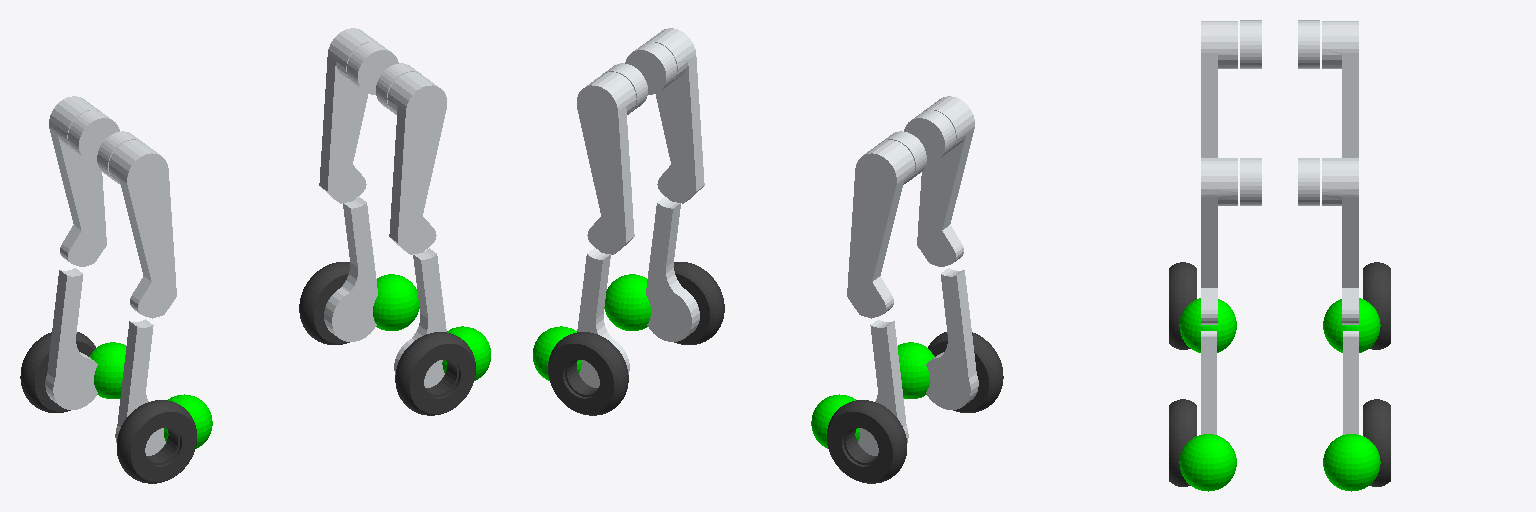
robot.urdf — srobot-wheel-legged:
<?xml version="1.0" encoding="utf-8"?>
<!-- This URDF was automatically created by SolidWorks to URDF Exporter! Originally created by [author] ([email redacted]) 
     Commit Version: 1.5.1-0-g916b5db  Build Version: 1.5.7152.31018
     For more information, please see http://wiki.ros.org/sw_urdf_exporter -->
<robot
  name="srobot-wheel-legged">
  <link
    name="base_link">
    <inertial>
      <origin
        xyz="-6.52486467968375E-17 2.07441986886647E-18 -2.27883154886891E-18"
        rpy="0 0 0" />
      <mass
        value="6.0" />
      <inertia
        ixx="0.0608160956861259"
        ixy="1.72051690543509E-18"
        ixz="-2.1700244668573E-18"
        iyy="0.402666318638718"
        iyz="-7.92852617132077E-18"
        izz="0.421299587298648" />
    </inertial>
    <visual>
      <origin
        xyz="0 0 0"
        rpy="0 0 0" />
      <geometry>
        <mesh
          filename="../meshes/base_link.STL" />
      </geometry>
      <material
        name="">
        <color
          rgba="0.898039215686275 0.917647058823529 0.929411764705882 1" />
      </material>
    </visual>
    <collision>
      <origin
        xyz="0 0 0"
        rpy="0 0 0" />
      <geometry>
        <mesh
          filename="../meshes/base_link.STL" />
      </geometry>
    </collision>
  </link>
  <link
    name="RF_Roll_Link">
    <inertial>
      <origin
        xyz="4.55191440096314E-15 0.00529999999999486 4.43982639023618E-14"
        rpy="0 0 0" />
      <mass
        value="0.6" />
      <inertia
        ixx="0.000319166019057731"
        ixy="1.77674783856661E-17"
        ixz="4.04080661782213E-34"
        iyy="0.000501492450372184"
        iyz="4.16618808159443E-21"
        izz="0.000319166019057731" />
    </inertial>
    <visual>
      <origin
        xyz="0 0 0"
        rpy="0 0 0" />
      <geometry>
        <mesh
          filename="../meshes/RF_Roll_Link.STL" />
      </geometry>
      <material
        name="">
        <color
          rgba="0.898039215686275 0.917647058823529 0.929411764705882 1" />
      </material>
    </visual>
    <!-- <collision>
      <origin
        xyz="0 0 0"
        rpy="0 0 0" />
      <geometry>
        <mesh
          filename="../meshes/RF_Roll_Link.STL" />
      </geometry>
    </collision> -->
  </link>
  <joint
    name="RF_Roll_Joint"
    type="revolute">
    <origin
      xyz="0.281 -0.056 0"
      rpy="0 0 0" />
    <parent
      link="base_link" />
    <child
      link="RF_Roll_Link" />
    <axis
      xyz="1 0 0" />
    <limit
      lower="-1.571"
      upper="1.571"
      effort="12"
      velocity="30" />
  </joint>
  <link
    name="RF_Hip_Link">
    <inertial>
      <origin
        xyz="-0.0103360295217408 -0.0581630276834992 -0.0820443873446011"
        rpy="0 0 0" />
      <mass
        value="1.6" />
      <inertia
        ixx="0.0189592876226688"
        ixy="-0.00017955527915913"
        ixz="-0.0018550747749619"
        iyy="0.0194844565916898"
        iyz="-0.00142525743005481"
        izz="0.00169890996470072" />
    </inertial>
    <visual>
      <origin
        xyz="0 0 0"
        rpy="0 0 0" />
      <geometry>
        <mesh
          filename="../meshes/RF_Hip_Link.STL" />
      </geometry>
      <material
        name="">
        <color
          rgba="0.898039215686275 0.917647058823529 0.929411764705882 1" />
      </material>
    </visual>
    <!-- <collision>
      <origin
        xyz="0 0 0"
        rpy="0 0 0" />
      <geometry>
        <mesh
          filename="../meshes/RF_Hip_Link.STL" />
      </geometry>
    </collision> -->
  </link>
  <joint
    name="RF_Hip_Joint"
    type="revolute">
    <origin
      xyz="0 0 0"
      rpy="0 0 0" />
    <parent
      link="RF_Roll_Link" />
    <child
      link="RF_Hip_Link" />
    <axis
      xyz="0 1 0" />
    <limit
      lower="-1.571"
      upper="1.571"
      effort="12"
      velocity="30" />
  </joint>
  <link
    name="RF_Knee_Link">
    <inertial>
      <origin
        xyz="0.00671675073687822 0.00200000000000003 -0.197321486304277"
        rpy="0 0 0" />
      <mass
        value="1.5" />
      <inertia
        ixx="0.00525919308166458"
        ixy="3.19446872965897E-20"
        ixz="-0.000352615147265016"
        iyy="0.00567312915510127"
        iyz="1.35084431456094E-18"
        izz="0.000548366854782577" />
    </inertial>
    <visual>
      <origin
        xyz="0 0 0"
        rpy="0 0 0" />
      <geometry>
        <mesh
          filename="../meshes/RF_Knee_Link.STL" />
      </geometry>
      <material
        name="">
        <color
          rgba="0.898039215686275 0.917647058823529 0.929411764705882 1" />
      </material>
    </visual>
    <collision>
      <origin
        xyz="0 0 0"
        rpy="0 0 0" />
      <geometry>
        <mesh
          filename="../meshes/RF_Knee_Link.STL" />
      </geometry>
    </collision>
  </link>
  <joint
    name="RF_Knee_Joint"
    type="revolute">
    <origin
      xyz="0 -0.0685 -0.25"
      rpy="0 0 0" />
    <parent
      link="RF_Hip_Link" />
    <child
      link="RF_Knee_Link" />
    <axis
      xyz="0 1 0" />
    <limit
      lower="-3.2"
      upper="0.1"
      effort="24"
      velocity="15" />
  </joint>
  <link
    name="RF_Wheel_Link">
    <inertial>
      <origin
        xyz="-2.98649993624167E-14 -0.0432999999997456 -7.74935671188359E-14"
        rpy="0 0 0" />
      <mass
        value="0.6" />
      <inertia
        ixx="0.0011369420458667"
        ixy="8.99815704764138E-17"
        ixz="1.23379172075192E-19"
        iyy="0.00206122837663487"
        iyz="4.94480481928688E-16"
        izz="0.0011369420458667" />
    </inertial>
    <visual>
      <geometry>
        <sphere radius="0.05" />
      </geometry>
      <origin xyz="0.08 0.0 0.0" rpy="0 0 0" />
      <material name="green">
        <color rgba="0 1 0 1" />
      </material>
    </visual>
    <visual>
      <origin
        xyz="0 0 0"
        rpy="0 0 0" />
      <geometry>
        <mesh
          filename="../meshes/RF_Wheel_Link.STL" />
      </geometry>
      <material
        name="">
        <color
          rgba="0.298039215686275 0.298039215686275 0.298039215686275 1" />
      </material>
    </visual>
    <collision>
      <origin
        xyz="0 0 0"
        rpy="0 0 0" />
      <geometry>
        <mesh
          filename="../meshes/RF_Wheel_Link.STL" />
      </geometry>
    </collision>
  </link>
  <joint
    name="RF_Wheel_Joint"
    type="revolute">
    <origin
      xyz="0 0 -0.25"
      rpy="0 0 0" />
    <parent
      link="RF_Knee_Link" />
    <child
      link="RF_Wheel_Link" />
    <axis
      xyz="0 1 0" />
    <limit
      lower="-300000"
      upper="300000"
      effort="2.5"
      velocity="100" />
  </joint>
  <link
    name="LF_Roll_Link">
    <inertial>
      <origin
        xyz="4.05231403988182E-15 -0.00529999999999486 -1.52811036746233E-14"
        rpy="0 0 0" />
      <mass
        value="0.6" />
      <inertia
        ixx="0.000319166019057731"
        ixy="-3.67718522367365E-22"
        ixz="0"
        iyy="0.000501492450372184"
        iyz="-4.16618808160681E-21"
        izz="0.000319166019057731" />
    </inertial>
    <visual>
      <origin
        xyz="0 0 0"
        rpy="0 0 0" />
      <geometry>
        <mesh
          filename="../meshes/LF_Roll_Link.STL" />
      </geometry>
      <material
        name="">
        <color
          rgba="0.898039215686275 0.917647058823529 0.929411764705882 1" />
      </material>
    </visual>
    <!-- <collision>
      <origin
        xyz="0 0 0"
        rpy="0 0 0" />
      <geometry>
        <mesh
          filename="../meshes/LF_Roll_Link.STL" />
      </geometry>
    </collision> -->
  </link>
  <joint
    name="LF_Roll_Joint"
    type="revolute">
    <origin
      xyz="0.281 0.056 0"
      rpy="0 0 0" />
    <parent
      link="base_link" />
    <child
      link="LF_Roll_Link" />
    <axis
      xyz="1 0 0" />
    <limit
      lower="-1.571"
      upper="1.571"
      effort="12"
      velocity="30" />
  </joint>
  <link
    name="LF_Hip_Link">
    <inertial>
      <origin
        xyz="-0.0103360295217104 0.0581630276835001 -0.0820443873446639"
        rpy="0 0 0" />
      <mass
        value="1.6" />
      <inertia
        ixx="0.0189592876226699"
        ixy="0.000179555279158753"
        ixz="-0.00185507477495655"
        iyy="0.0194844565916898"
        iyz="0.00142525743005504"
        izz="0.00169890996469961" />
    </inertial>
    <visual>
      <origin
        xyz="0 0 0"
        rpy="0 0 0" />
      <geometry>
        <mesh
          filename="../meshes/LF_Hip_Link.STL" />
      </geometry>
      <material
        name="">
        <color
          rgba="0.898039215686275 0.917647058823529 0.929411764705882 1" />
      </material>
    </visual>
    <!-- <collision>
      <origin
        xyz="0 0 0"
        rpy="0 0 0" />
      <geometry>
        <mesh
          filename="../meshes/LF_Hip_Link.STL" />
      </geometry>
    </collision> -->
  </link>
  <joint
    name="LF_Hip_Joint"
    type="revolute">
    <origin
      xyz="0 0 0"
      rpy="0 0 0" />
    <parent
      link="LF_Roll_Link" />
    <child
      link="LF_Hip_Link" />
    <axis
      xyz="0 1 0" />
    <limit
      lower="-1.571"
      upper="1.571"
      effort="12"
      velocity="30" />
  </joint>
  <link
    name="LF_Knee_Link">
    <inertial>
      <origin
        xyz="0.0067167507369022 -0.00199999999999653 -0.197321486304277"
        rpy="0 0 0" />
      <mass
        value="1.5" />
      <inertia
        ixx="0.00525919308166458"
        ixy="-6.91806458325334E-19"
        ixz="-0.000352615147265016"
        iyy="0.00567312915510127"
        iyz="-3.52509874642108E-18"
        izz="0.000548366854782577" />
    </inertial>
    <visual>
      <origin
        xyz="0 0 0"
        rpy="0 0 0" />
      <geometry>
        <mesh
          filename="../meshes/LF_Knee_Link.STL" />
      </geometry>
      <material
        name="">
        <color
          rgba="0.898039215686275 0.917647058823529 0.929411764705882 1" />
      </material>
    </visual>
    <collision>
      <origin
        xyz="0 0 0"
        rpy="0 0 0" />
      <geometry>
        <mesh
          filename="../meshes/LF_Knee_Link.STL" />
      </geometry>
    </collision>
  </link>
  <joint
    name="LF_Knee_Joint"
    type="revolute">
    <origin
      xyz="0 0.0685 -0.25"
      rpy="0 0 0" />
    <parent
      link="LF_Hip_Link" />
    <child
      link="LF_Knee_Link" />
    <axis
      xyz="0 1 0" />
    <limit
      lower="-3.2"
      upper="0.1"
      effort="24"
      velocity="15" />
  </joint>
  <link
    name="LF_Wheel_Link">
    <inertial>
      <origin
        xyz="-1.60982338570648E-15 0.0432999999997492 -7.74935671188359E-14"
        rpy="0 0 0" />
      <mass
        value="0.6" />
      <inertia
        ixx="0.0011369420458667"
        ixy="-6.08042992232673E-20"
        ixz="2.84441428156161E-19"
        iyy="0.00206122837663487"
        iyz="-4.94235268530396E-16"
        izz="0.0011369420458667" />
    </inertial>
    <visual>
      <geometry>
        <sphere radius="0.05" />
      </geometry>
      <origin xyz="0.08 0.0 0.0" rpy="0 0 0" />
      <material name="green">
        <color rgba="0 1 0 1" />
      </material>
    </visual>
    <visual>
      <origin
        xyz="0 0 0"
        rpy="0 0 0" />
      <geometry>
        <mesh
          filename="../meshes/LF_Wheel_Link.STL" />
      </geometry>
      <material
        name="">
        <color
          rgba="0.298039215686275 0.298039215686275 0.298039215686275 1" />
      </material>
    </visual>
    <collision>
      <origin
        xyz="0 0 0"
        rpy="0 0 0" />
      <geometry>
        <mesh
          filename="../meshes/LF_Wheel_Link.STL" />
      </geometry>
    </collision>
  </link>
  <joint
    name="LF_Wheel_Joint"
    type="revolute">
    <origin
      xyz="0 0 -0.25"
      rpy="0 0 0" />
    <parent
      link="LF_Knee_Link" />
    <child
      link="LF_Wheel_Link" />
    <axis
      xyz="0 1 0" />
    <limit
      lower="-300000"
      upper="300000"
      effort="2.5"
      velocity="100" />
  </joint>
  <link
    name="RB_Roll_Link">
    <inertial>
      <origin
        xyz="2.72004641033163E-15 0.00529999999999486 4.44649776840179E-14"
        rpy="0 0 0" />
      <mass
        value="0.6" />
      <inertia
        ixx="0.000319166019057731"
        ixy="-3.67718551651994E-22"
        ixz="-1.91143375438228E-36"
        iyy="0.000501492450372184"
        iyz="-4.9329303402386E-21"
        izz="0.000319166019057731" />
    </inertial>
    <visual>
      <origin
        xyz="0 0 0"
        rpy="0 0 0" />
      <geometry>
        <mesh
          filename="../meshes/RB_Roll_Link.STL" />
      </geometry>
      <material
        name="">
        <color
          rgba="0.898039215686275 0.917647058823529 0.929411764705882 1" />
      </material>
    </visual>
    <!-- <collision>
      <origin
        xyz="0 0 0"
        rpy="0 0 0" />
      <geometry>
        <mesh
          filename="../meshes/RB_Roll_Link.STL" />
      </geometry>
    </collision> -->
  </link>
  <joint
    name="RB_Roll_Joint"
    type="revolute">
    <origin
      xyz="-0.281 -0.056 0"
      rpy="0 0 0" />
    <parent
      link="base_link" />
    <child
      link="RB_Roll_Link" />
    <axis
      xyz="1 0 0" />
    <limit
      lower="-1.571"
      upper="1.571"
      effort="12"
      velocity="30" />
  </joint>
  <link
    name="RB_Hip_Link">
    <inertial>
      <origin
        xyz="0.0103360295217419 -0.0581630276835001 -0.0820443873446011"
        rpy="0 0 0" />
      <mass
        value="1.6" />
      <inertia
        ixx="0.0189592876226688"
        ixy="0.000179555279159183"
        ixz="0.00185507477496176"
        iyy="0.0194844565916898"
        iyz="-0.00142525743005499"
        izz="0.00169890996470072" />
    </inertial>
    <visual>
      <origin
        xyz="0 0 0"
        rpy="0 0 0" />
      <geometry>
        <mesh
          filename="../meshes/RB_Hip_Link.STL" />
      </geometry>
      <material
        name="">
        <color
          rgba="0.898039215686275 0.917647058823529 0.929411764705882 1" />
      </material>
    </visual>
    <!-- <collision>
      <origin
        xyz="0 0 0"
        rpy="0 0 0" />
      <geometry>
        <mesh
          filename="../meshes/RB_Hip_Link.STL" />
      </geometry>
    </collision> -->
  </link>
  <joint
    name="RB_Hip_Joint"
    type="revolute">
    <origin
      xyz="0 0 0"
      rpy="0 0 0" />
    <parent
      link="RB_Roll_Link" />
    <child
      link="RB_Hip_Link" />
    <axis
      xyz="0 1 0" />
    <limit
      lower="-1.571"
      upper="1.571"
      effort="12"
      velocity="30" />
  </joint>
  <link
    name="RB_Knee_Link">
    <inertial>
      <origin
        xyz="-0.00671675073694039 0.00200000000005476 -0.197321486304257"
        rpy="0 0 0" />
      <mass
        value="1.5" />
      <inertia
        ixx="0.00525919308166458"
        ixy="3.98626841051051E-17"
        ixz="0.000352615147265016"
        iyy="0.00567312915510127"
        iyz="-3.39649635345383E-17"
        izz="0.000548366854782577" />
    </inertial>
    <visual>
      <origin
        xyz="0 0 0"
        rpy="0 0 0" />
      <geometry>
        <mesh
          filename="../meshes/RB_Knee_Link.STL" />
      </geometry>
      <material
        name="">
        <color
          rgba="0.898039215686275 0.917647058823529 0.929411764705882 1" />
      </material>
    </visual>
    <collision>
      <origin
        xyz="0 0 0"
        rpy="0 0 0" />
      <geometry>
        <mesh
          filename="../meshes/RB_Knee_Link.STL" />
      </geometry>
    </collision>
  </link>
  <joint
    name="RB_Knee_Joint"
    type="revolute">
    <origin
      xyz="0 -0.0685 -0.25"
      rpy="0 0 0" />
    <parent
      link="RB_Hip_Link" />
    <child
      link="RB_Knee_Link" />
    <axis
      xyz="0 1 0" />
    <limit
      lower="-0.1"
      upper="3.2"
      effort="24"
      velocity="15" />
  </joint>
  <link
    name="RB_Wheel_Link">
    <inertial>
      <origin
        xyz="-1.06581410364015E-14 -0.0432999999996914 -6.0285110237146E-14"
        rpy="0 0 0" />
      <mass
        value="0.6" />
      <inertia
        ixx="0.0011369420458667"
        ixy="-8.99932544661742E-17"
        ixz="-5.3098730859172E-20"
        iyy="0.00206122837663487"
        iyz="4.94356170490272E-16"
        izz="0.0011369420458667" />
    </inertial>
    <visual>
      <geometry>
        <sphere radius="0.05" />
      </geometry>
      <origin xyz="0.08 0.0 0.0" rpy="0 0 0" />
      <material name="green">
        <color rgba="0 1 0 1" />
      </material>
    </visual>
    <visual>
      <origin
        xyz="0 0 0"
        rpy="0 0 0" />
      <geometry>
        <mesh
          filename="../meshes/RB_Wheel_Link.STL" />
      </geometry>
      <material
        name="">
        <color
          rgba="0.298039215686275 0.298039215686275 0.298039215686275 1" />
      </material>
    </visual>
    <collision>
      <origin
        xyz="0 0 0"
        rpy="0 0 0" />
      <geometry>
        <mesh
          filename="../meshes/RB_Wheel_Link.STL" />
      </geometry>
    </collision>
  </link>
  <joint
    name="RB_Wheel_Joint"
    type="revolute">
    <origin
      xyz="0 0 -0.25"
      rpy="0 0 0" />
    <parent
      link="RB_Knee_Link" />
    <child
      link="RB_Wheel_Link" />
    <axis
      xyz="0 1 0" />
    <limit
      lower="-300000"
      upper="300000"
      effort="2.5"
      velocity="100" />
  </joint>
  <link
    name="LB_Roll_Link">
    <inertial>
      <origin
        xyz="2.22044604925031E-15 -0.00529999999999486 -1.52143998488168E-14"
        rpy="0 0 0" />
      <mass
        value="0.6" />
      <inertia
        ixx="0.000319166019057731"
        ixy="1.77680786660779E-17"
        ixz="4.82633073927794E-34"
        iyy="0.000501492450372184"
        iyz="4.9329303402386E-21"
        izz="0.000319166019057731" />
    </inertial>
    <visual>
      <origin
        xyz="0 0 0"
        rpy="0 0 0" />
      <geometry>
        <mesh
          filename="../meshes/LB_Roll_Link.STL" />
      </geometry>
      <material
        name="">
        <color
          rgba="0.898039215686275 0.917647058823529 0.929411764705882 1" />
      </material>
    </visual>
    <!-- <collision>
      <origin
        xyz="0 0 0"
        rpy="0 0 0" />
      <geometry>
        <mesh
          filename="../meshes/LB_Roll_Link.STL" />
      </geometry>
    </collision> -->
  </link>
  <joint
    name="LB_Roll_Joint"
    type="revolute">
    <origin
      xyz="-0.281 0.056 0"
      rpy="0 0 0" />
    <parent
      link="base_link" />
    <child
      link="LB_Roll_Link" />
    <axis
      xyz="1 0 0" />
    <limit
      lower="-1.571"
      upper="1.571"
      effort="12"
      velocity="30" />
  </joint>
  <link
    name="LB_Hip_Link">
    <inertial>
      <origin
        xyz="0.0103360295217476 0.0581630276834991 -0.0820443873446607"
        rpy="0 0 0" />
      <mass
        value="1.6" />
      <inertia
        ixx="0.0189592876226688"
        ixy="-0.000179555279159131"
        ixz="0.0018550747749619"
        iyy="0.0194844565916898"
        iyz="0.00142525743005481"
        izz="0.00169890996470072" />
    </inertial>
    <visual>
      <origin
        xyz="0 0 0"
        rpy="0 0 0" />
      <geometry>
        <mesh
          filename="../meshes/LB_Hip_Link.STL" />
      </geometry>
      <material
        name="">
        <color
          rgba="0.898039215686275 0.917647058823529 0.929411764705882 1" />
      </material>
    </visual>
    <!-- <collision>
      <origin
        xyz="0 0 0"
        rpy="0 0 0" />
      <geometry>
        <mesh
          filename="../meshes/LB_Hip_Link.STL" />
      </geometry>
    </collision> -->
  </link>
  <joint
    name="LB_Hip_Joint"
    type="revolute">
    <origin
      xyz="0 0 0"
      rpy="0 0 0" />
    <parent
      link="LB_Roll_Link" />
    <child
      link="LB_Hip_Link" />
    <axis
      xyz="0 1 0" />
    <limit
      lower="-1.571"
      upper="1.571"
      effort="12"
      velocity="24" />
  </joint>
  <link
    name="LB_Knee_Link">
    <inertial>
      <origin
        xyz="-0.00671675073691663 -0.00200000000005057 -0.197321486304257"
        rpy="0 0 0" />
      <mass
        value="1.5" />
      <inertia
        ixx="0.00525919308166458"
        ixy="5.04148202222334E-19"
        ixz="0.000352615147265016"
        iyy="0.00567312915510127"
        iyz="-4.91164532207643E-19"
        izz="0.000548366854782577" />
    </inertial>
    <visual>
      <origin
        xyz="0 0 0"
        rpy="0 0 0" />
      <geometry>
        <mesh
          filename="../meshes/LB_Knee_Link.STL" />
      </geometry>
      <material
        name="">
        <color
          rgba="0.898039215686275 0.917647058823529 0.929411764705882 1" />
      </material>
    </visual>
    <collision>
      <origin
        xyz="0 0 0"
        rpy="0 0 0" />
      <geometry>
        <mesh
          filename="../meshes/LB_Knee_Link.STL" />
      </geometry>
    </collision>
  </link>
  <joint
    name="LB_Knee_Joint"
    type="revolute">
    <origin
      xyz="0 0.0685 -0.25"
      rpy="0 0 0" />
    <parent
      link="LB_Hip_Link" />
    <child
      link="LB_Knee_Link" />
    <axis
      xyz="0 1 0" />
    <limit
      lower="-0.1"
      upper="3.2"
      effort="24"
      velocity="15" />
  </joint>
  <link
    name="LB_Wheel_Link">
    <inertial>
      <origin
        xyz="9.2148511043888E-15 0.043299999999695 -6.0285110237146E-14"
        rpy="0 0 0" />
      <mass
        value="0.6" />
      <inertia
        ixx="0.0011369420458667"
        ixy="4.58318074200394E-20"
        ixz="-1.23379172027078E-19"
        iyy="0.00206122837663487"
        iyz="-4.94150863836577E-16"
        izz="0.0011369420458667" />
    </inertial>
    <visual>
      <geometry>
        <sphere radius="0.05" />
      </geometry>
      <origin xyz="0.08 0.0 0.0" rpy="0 0 0" />
      <material name="green">
        <color rgba="0 1 0 1" />
      </material>
    </visual>
    <visual>
      <origin
        xyz="0 0 0"
        rpy="0 0 0" />
      <geometry>
        <mesh
          filename="../meshes/LB_Wheel_Link.STL" />
      </geometry>
      <material
        name="">
        <color
          rgba="0.298039215686275 0.298039215686275 0.298039215686275 1" />
      </material>
    </visual>
    <collision>
      <origin
        xyz="0 0 0"
        rpy="0 0 0" />
      <geometry>
        <mesh
          filename="../meshes/LB_Wheel_Link.STL" />
      </geometry>
    </collision>
  </link>
  <joint
    name="LB_Wheel_Joint"
    type="revolute">
    <origin
      xyz="0 0 -0.25"
      rpy="0 0 0" />
    <parent
      link="LB_Knee_Link" />
    <child
      link="LB_Wheel_Link" />
    <axis
      xyz="0 1 0" />
    <limit
      lower="-300000"
      upper="300000"
      effort="2.5"
      velocity="100" />
  </joint>
</robot>

--- What the picture shows (computed from the rendered views, not written in the file) ---
The picture shows the robot from 3 angles, left to right: view 1: azimuth 30°, elevation 25°; view 2: azimuth 150°, elevation 25°; view 3: azimuth 270°, elevation 25°; orthographic projection.
Model srobot-wheel-legged with 17 links and 16 joints (16 revolute), rooted at base_link, posed every joint at zero.
Visible links, largest first — view 1: RF_Hip_Link, RB_Hip_Link, LF_Hip_Link, RF_Wheel_Link, RB_Wheel_Link, LB_Hip_Link, LF_Knee_Link, LB_Knee_Link, LF_Wheel_Link, LB_Wheel_Link, RB_Knee_Link, RF_Knee_Link (+4 smaller); view 2: LF_Hip_Link, LB_Hip_Link, RF_Hip_Link, LF_Wheel_Link, LB_Wheel_Link, RB_Hip_Link, RF_Knee_Link, RB_Knee_Link, RF_Wheel_Link, RB_Wheel_Link, LB_Knee_Link, LF_Knee_Link (+4 smaller); view 3: RF_Wheel_Link, LF_Wheel_Link, RF_Hip_Link, LF_Hip_Link, RB_Wheel_Link, LB_Wheel_Link, RB_Hip_Link, LB_Hip_Link, RF_Knee_Link, LF_Knee_Link, RB_Roll_Link, LB_Roll_Link (+2 smaller).
Link boxes in pixels (x1=…): RF_Hip_Link: x1=387, y1=72, x2=446, y2=254; RB_Hip_Link: x1=109, y1=140, x2=176, y2=318; LF_Hip_Link: x1=319, y1=28, x2=377, y2=203; RF_Wheel_Link: x1=395, y1=326, x2=490, y2=415; RB_Wheel_Link: x1=117, y1=394, x2=212, y2=483; LB_Hip_Link: x1=49, y1=96, x2=106, y2=266; LF_Knee_Link: x1=324, y1=197, x2=377, y2=341; LB_Knee_Link: x1=45, y1=268, x2=97, y2=409; LF_Wheel_Link: x1=299, y1=262, x2=419, y2=344; LB_Wheel_Link: x1=20, y1=332, x2=125, y2=412; RB_Knee_Link: x1=115, y1=319, x2=165, y2=455; RF_Knee_Link: x1=394, y1=248, x2=446, y2=387; LF_Hip_Link: x1=577, y1=72, x2=636, y2=254; LB_Hip_Link: x1=847, y1=140, x2=914, y2=318; RF_Hip_Link: x1=646, y1=28, x2=704, y2=203; LF_Wheel_Link: x1=533, y1=326, x2=628, y2=415; LB_Wheel_Link: x1=811, y1=394, x2=906, y2=483; RB_Hip_Link: x1=917, y1=96, x2=974, y2=266; RF_Knee_Link: x1=646, y1=197, x2=699, y2=341; RB_Knee_Link: x1=926, y1=268, x2=978, y2=409; RF_Wheel_Link: x1=604, y1=262, x2=724, y2=344; RB_Wheel_Link: x1=898, y1=332, x2=1003, y2=412; LB_Knee_Link: x1=858, y1=319, x2=908, y2=455; LF_Knee_Link: x1=577, y1=248, x2=629, y2=387; RF_Wheel_Link: x1=1169, y1=399, x2=1236, y2=491; LF_Wheel_Link: x1=1323, y1=399, x2=1390, y2=491; RF_Hip_Link: x1=1201, y1=158, x2=1237, y2=324; LF_Hip_Link: x1=1322, y1=158, x2=1358, y2=324; RB_Wheel_Link: x1=1169, y1=262, x2=1236, y2=352; LB_Wheel_Link: x1=1323, y1=262, x2=1390, y2=352; RB_Hip_Link: x1=1201, y1=21, x2=1237, y2=157; LB_Hip_Link: x1=1322, y1=21, x2=1358, y2=157; RF_Knee_Link: x1=1201, y1=331, x2=1216, y2=434; LF_Knee_Link: x1=1343, y1=331, x2=1358, y2=434; RB_Roll_Link: x1=1240, y1=20, x2=1261, y2=68; LB_Roll_Link: x1=1298, y1=20, x2=1319, y2=68.
Size in the robot's own frame: 0.768 by 0.3836 by 0.6181 metres.
Meshes: 17 distinct files referenced, 16 mesh visuals loaded (16 binary STL); not drawn: 1 (reference not matched to a file when rendering).